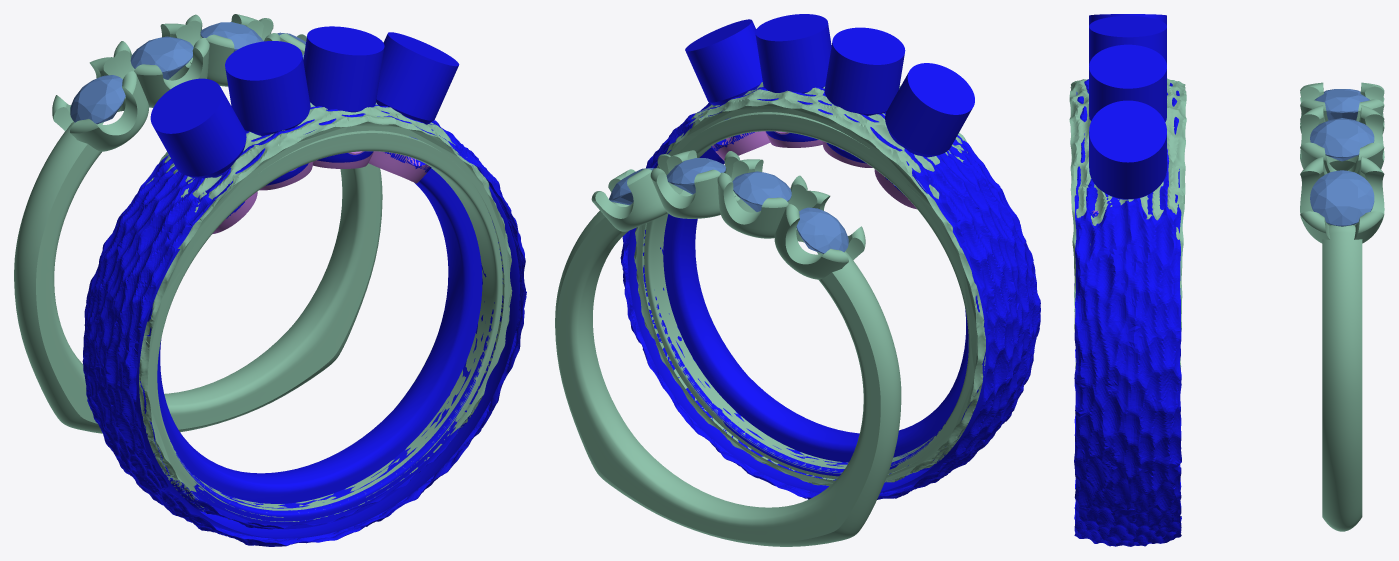
The picture shows the model from 3 angles, left to right: view 1: azimuth 30°, elevation 25°; view 2: azimuth 150°, elevation 25°; view 3: azimuth 270°, elevation 25°; orthographic projection. The views are drawn at different scales.
Parts seen in each view (by area): view 1: Anillos De Matrimonio Baron.3dm, PhotonWorkshop Export stl (×2), Gem (×3); view 2: Anillos De Matrimonio Baron.3dm, PhotonWorkshop Export stl (×2), Gem (×3); view 3: Anillos De Matrimonio Baron.3dm, PhotonWorkshop Export stl (×2), Gem (×3).
Boxes of the visible parts, x1=… form: Anillos De Matrimonio Baron.3dm: x1=14, y1=14, x2=526, y2=546; PhotonWorkshop Export stl (×2): x1=139, y1=102, x2=512, y2=529; Gem (×3): x1=70, y1=22, x2=263, y2=124; Anillos De Matrimonio Baron.3dm: x1=555, y1=14, x2=1040, y2=546; PhotonWorkshop Export stl (×2): x1=634, y1=82, x2=985, y2=486; Gem (×3): x1=666, y1=158, x2=848, y2=253; Anillos De Matrimonio Baron.3dm: x1=1074, y1=14, x2=1384, y2=546; PhotonWorkshop Export stl (×2): x1=1069, y1=78, x2=1186, y2=369; Gem (×3): x1=1310, y1=90, x2=1374, y2=226.
Size of the model in its own units: 2.67 by 3.01 by 1.77.
